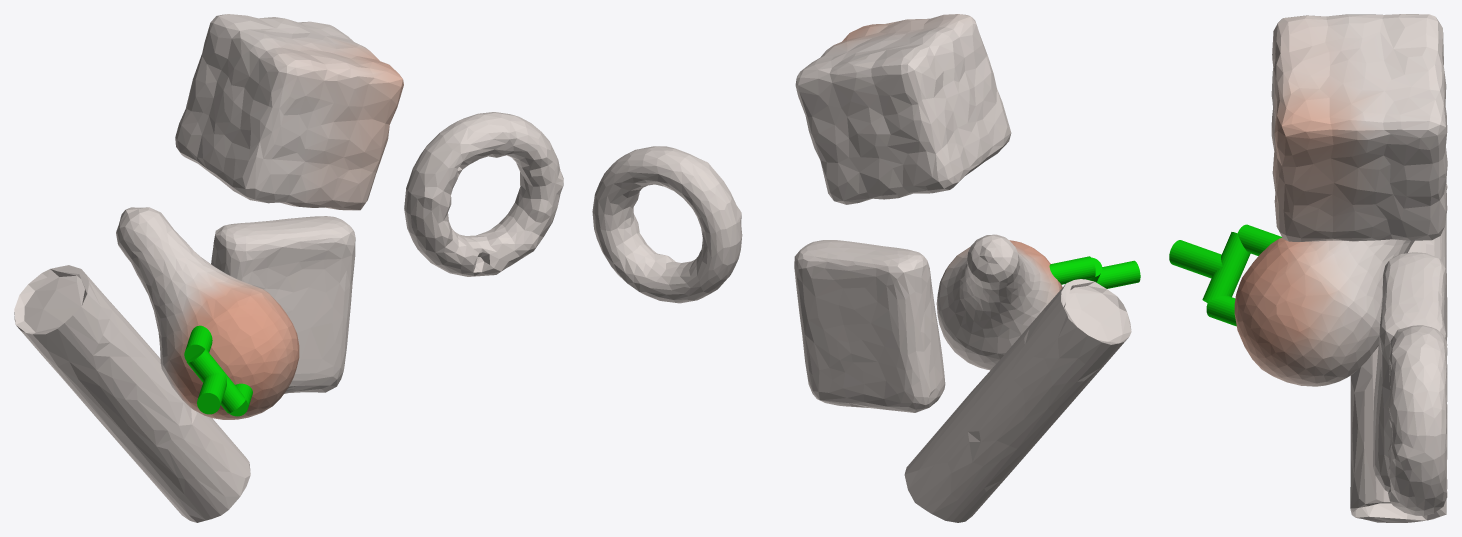
Rendered from round_000_trial_000.obj.
The picture shows the model from 3 angles, left to right: view 1: azimuth 30°, elevation 25°; view 2: azimuth 150°, elevation 25°; view 3: azimuth 270°, elevation 25°; orthographic projection. The views are drawn at different scales.
Visible parts, largest first — view 1: geometry_0, geometry_1; view 2: geometry_0, geometry_1; view 3: geometry_0, geometry_1.
Boxes of the visible parts, x1,y1,x2,y2 form: geometry_0: (14,14,563,522); geometry_1: (184,325,252,416); geometry_0: (592,14,1131,522); geometry_1: (1049,256,1140,288); geometry_0: (1234,14,1447,522); geometry_1: (1169,224,1281,326).
Bounding box in the file's own units: 0.2684 × 0.2264 × 0.1066.
